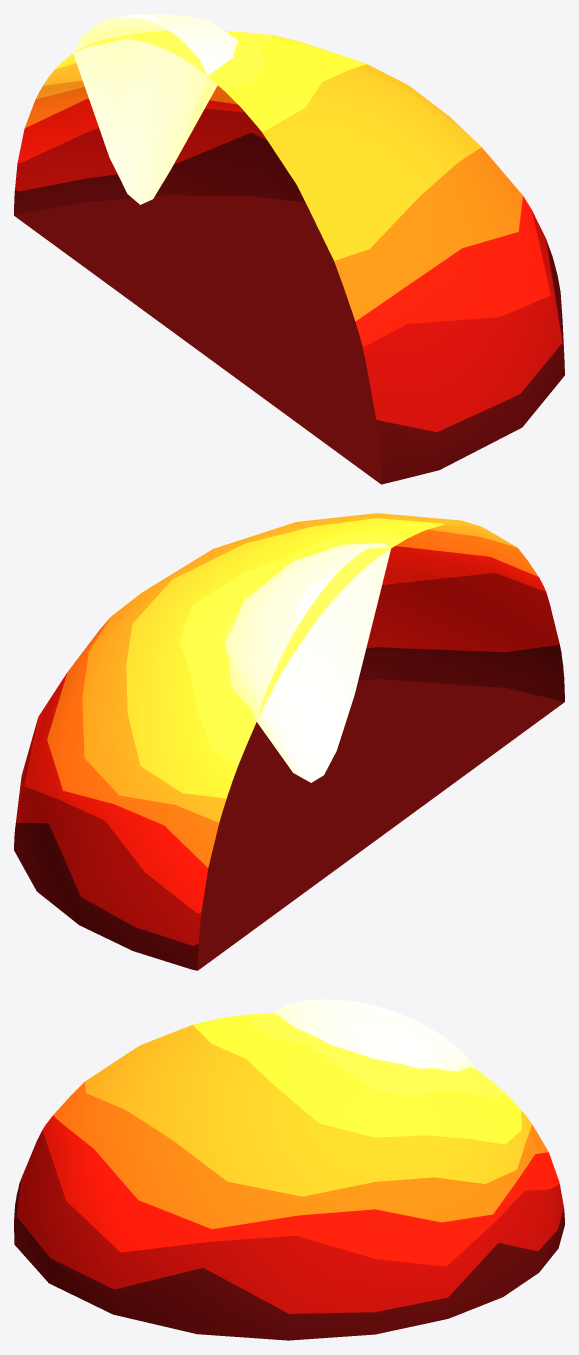
Rendered from shot_charge_b202.glb.
3 renders of one model, top to bottom at view 1: azimuth 30°, elevation 25°; view 2: azimuth 150°, elevation 25°; view 3: azimuth 270°, elevation 25°, orthographic. The views are drawn at different scales.
Parts seen in each view (by area): view 1: charge_twin0_a_fire_shot_charge_b202, charge_twin0_a_core_shot_charge_b202; view 2: charge_twin0_a_fire_shot_charge_b202, charge_twin0_a_core_shot_charge_b202; view 3: charge_twin0_a_fire_shot_charge_b202, charge_twin0_a_core_shot_charge_b202.
Part boxes in pixels (x1,y1,x2,y2): charge_twin0_a_fire_shot_charge_b202: (14, 30, 564, 484); charge_twin0_a_core_shot_charge_b202: (73, 14, 238, 204); charge_twin0_a_fire_shot_charge_b202: (14, 513, 564, 970); charge_twin0_a_core_shot_charge_b202: (225, 543, 391, 782); charge_twin0_a_fire_shot_charge_b202: (14, 1012, 564, 1340); charge_twin0_a_core_shot_charge_b202: (274, 999, 475, 1071).
Size of the model in its own units: 6 by 5.34 by 11.91.
